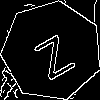Z: (27, 26, 77, 81)
